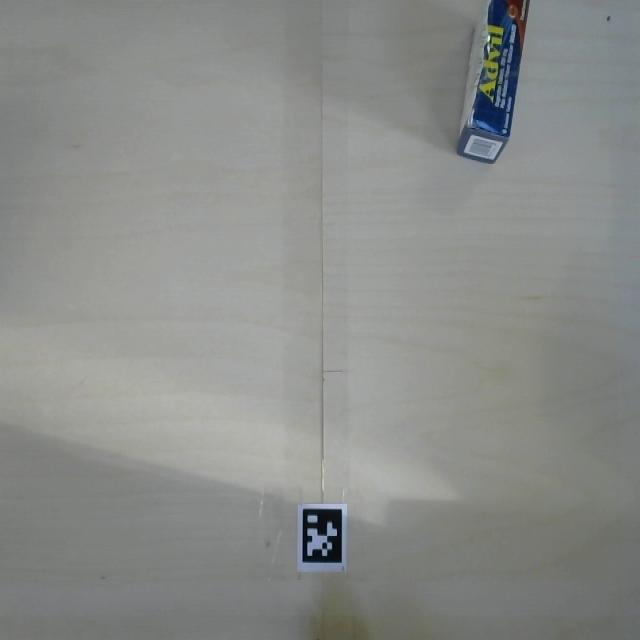advil: (452, 0, 531, 181)
